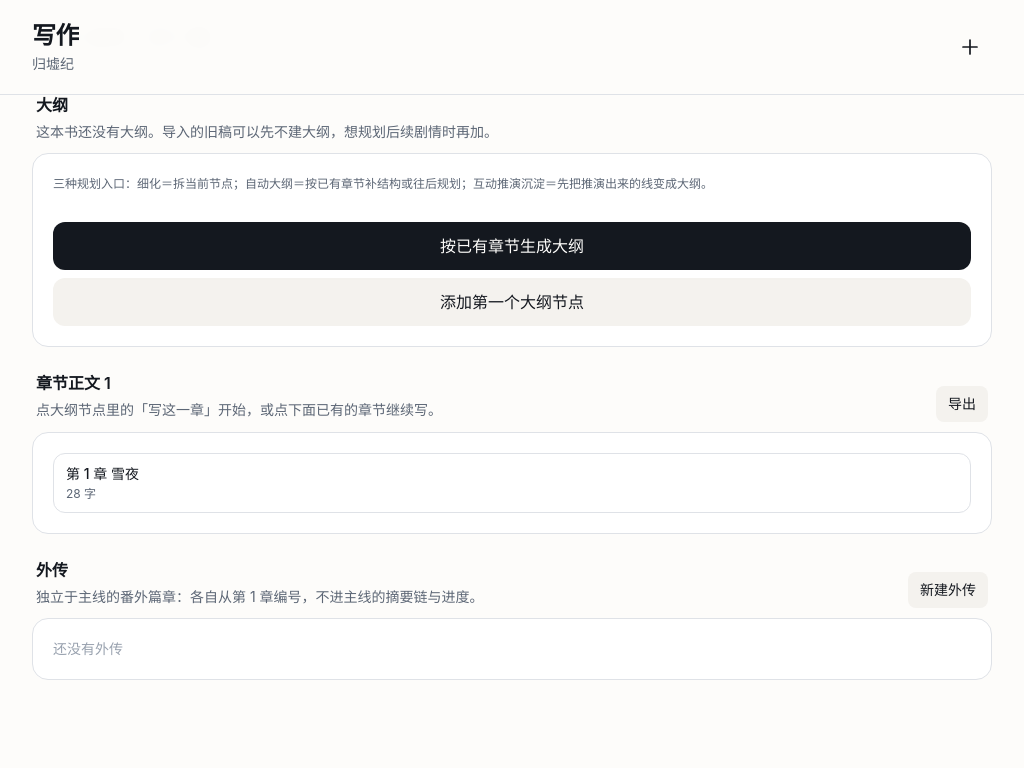
Scenario: 结果卡片 › 忽略后卡片消失，入口计数减一；关掉再开结果还在
The width and height of the screenshot is (1024, 768).
(page scrolled)
Click the button with aria-label "继续写第 1 章": (123, 473) x1=53 y1=452 x2=971 y2=512
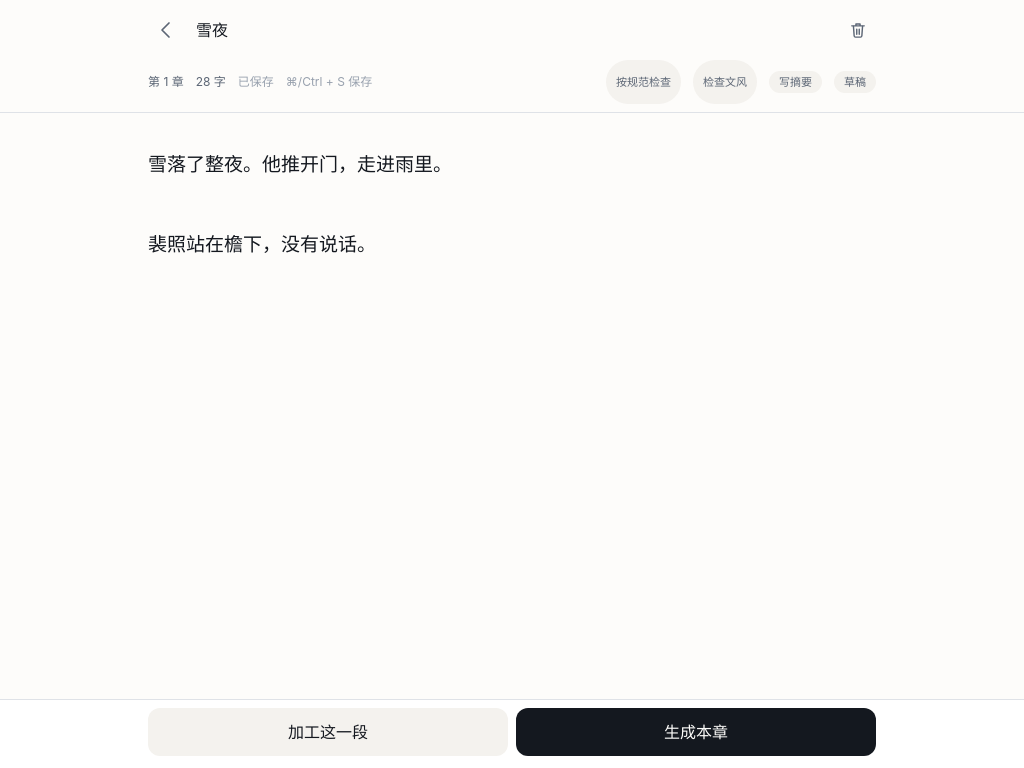
Expected: the text box named "章节正文" is shown, x1=144 y1=113 x2=880 y2=699
Click the button "按规范检查": (644, 82) x1=606 y1=60 x2=681 y2=104
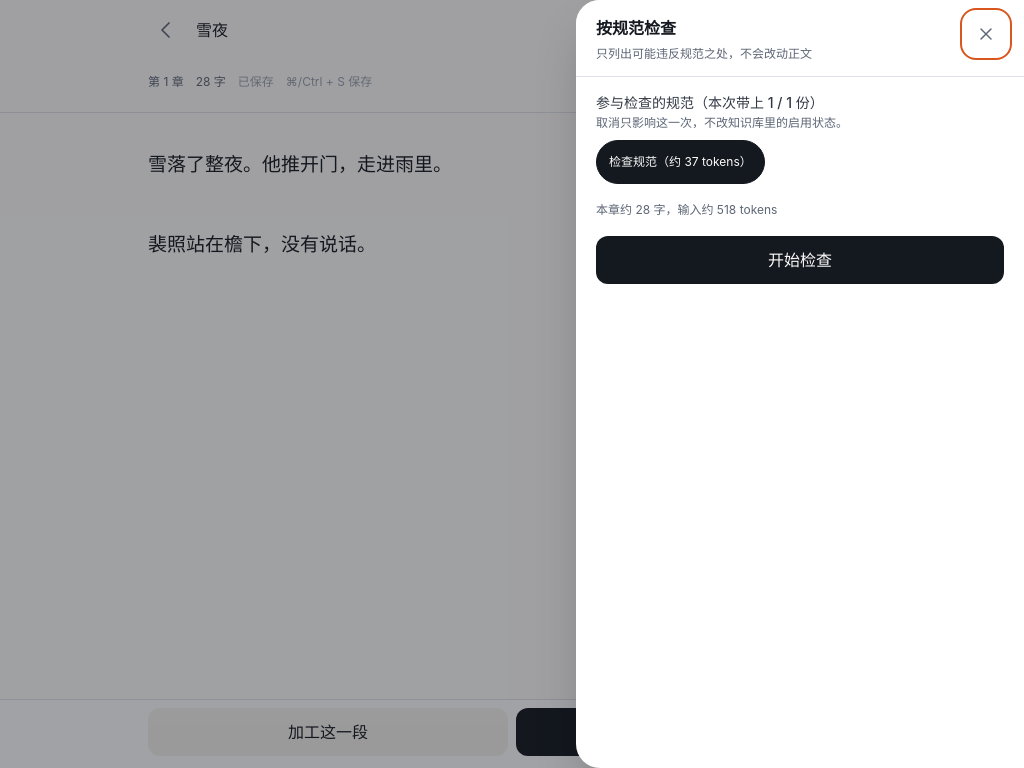
Click the button "开始检查": (800, 260) x1=596 y1=236 x2=1004 y2=284
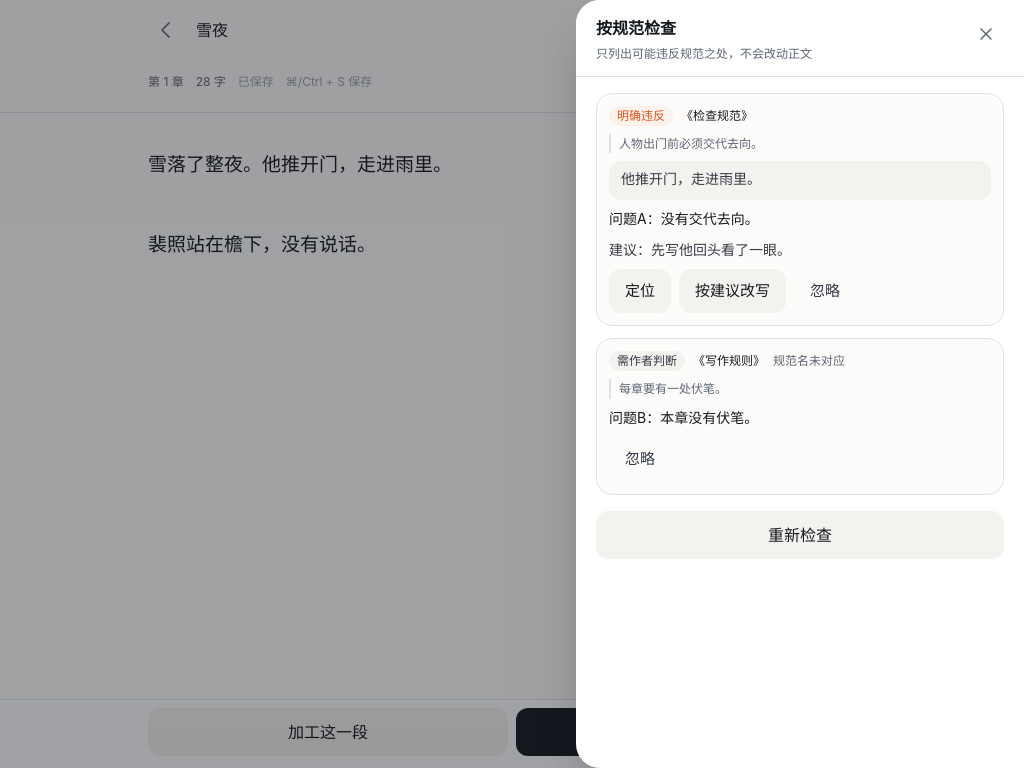
Expected: the text "问题A：没有交代去向。" is shown, x1=609 y1=210 x2=759 y2=227
Click the button "忽略" below "需作者判断": (640, 460) x1=609 y1=438 x2=671 y2=482
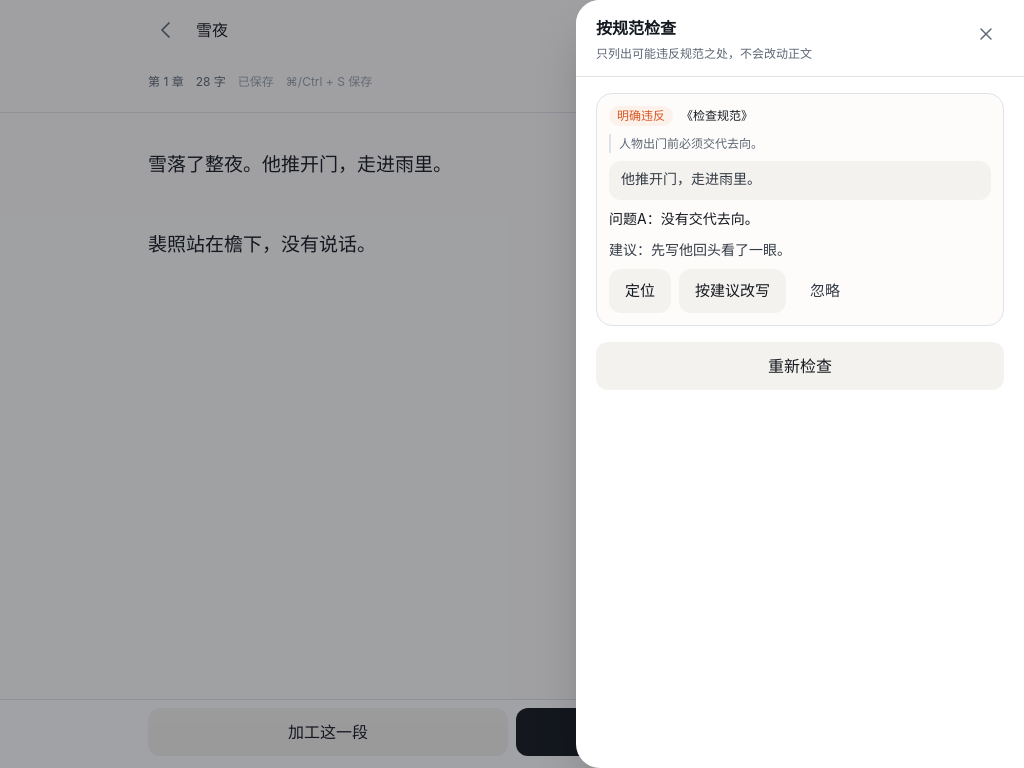
Expected: the button "检查结果 1" is shown, x1=610 y1=60 x2=681 y2=104
Expected: the text "问题B：本章没有伏笔。" is gone
Click the button named "关闭": (986, 34) x1=964 y1=12 x2=1008 y2=56
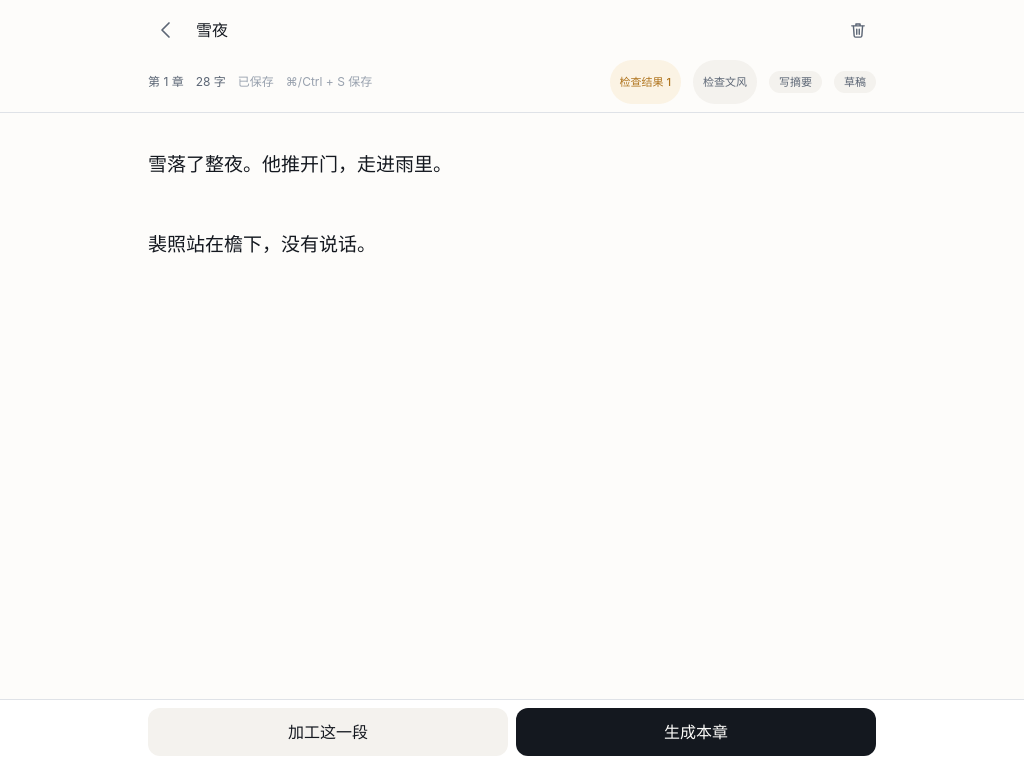
Click the button "检查结果 1": (645, 82) x1=610 y1=60 x2=681 y2=104
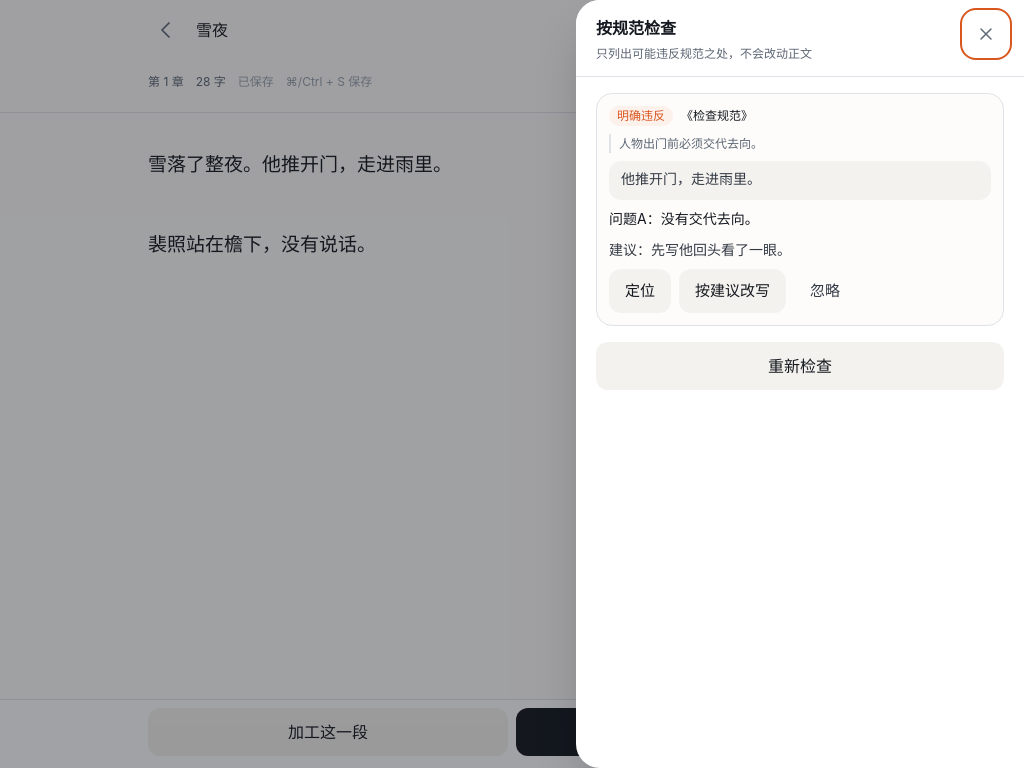
Expected: the text "问题B：本章没有伏笔。" is not shown
Expected: the text "问题A：没有交代去向。" is shown, x1=609 y1=210 x2=759 y2=227
